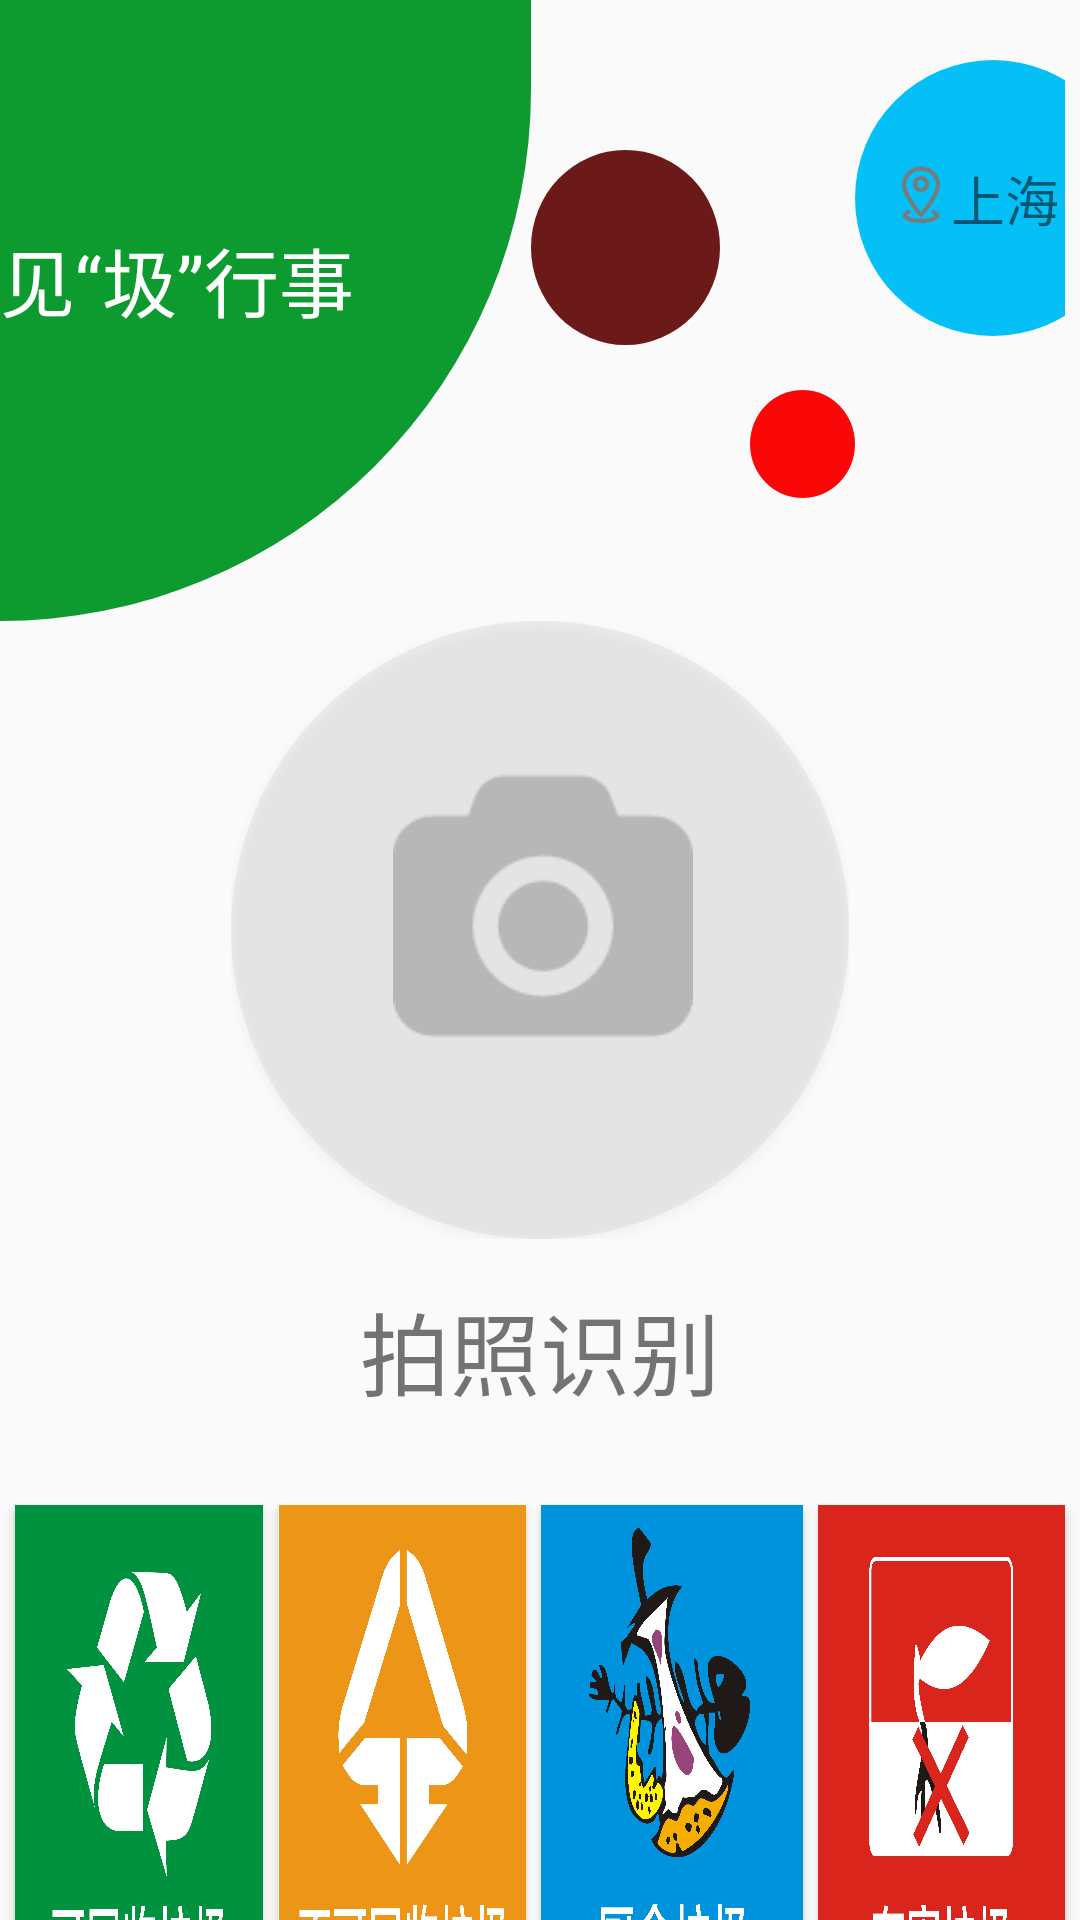

Screen size 1080px x 1920px. Icon name, then its box in pixels as BBox(x1, y1, x2, y2):
takephotoicon: BBox(393, 776, 693, 1036)
weizhiicon: BBox(901, 166, 941, 223)
